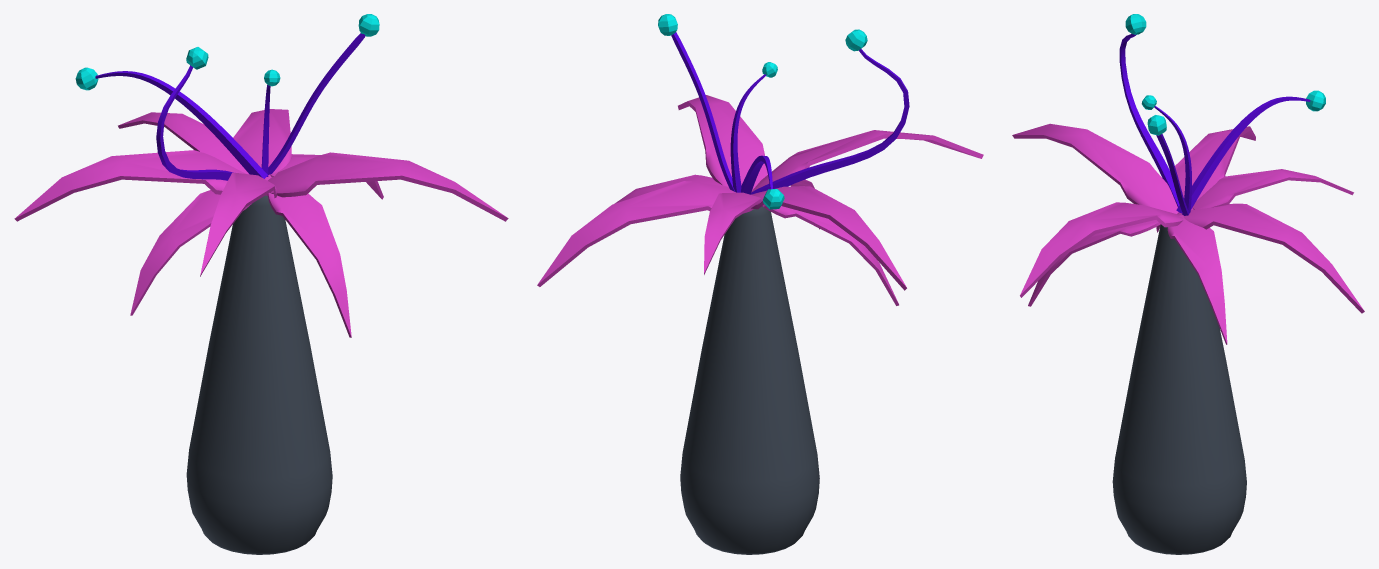
The model's file is Seed_Plant_VariantTWO.fbx.
The picture shows the model from 3 angles, left to right: view 1: azimuth 30°, elevation 25°; view 2: azimuth 150°, elevation 25°; view 3: azimuth 270°, elevation 25°; orthographic projection. The views are drawn at different scales.
Visible parts, largest first — view 1: PlantyPlantTWO; view 2: PlantyPlantTWO; view 3: PlantyPlantTWO.
Boxes of the visible parts, x1,y1,x2,y2 form: PlantyPlantTWO: (14, 14, 508, 554); PlantyPlantTWO: (537, 14, 983, 554); PlantyPlantTWO: (1012, 14, 1364, 554).
Size of the model in its own units: 1.33 by 1.82 by 1.2.
